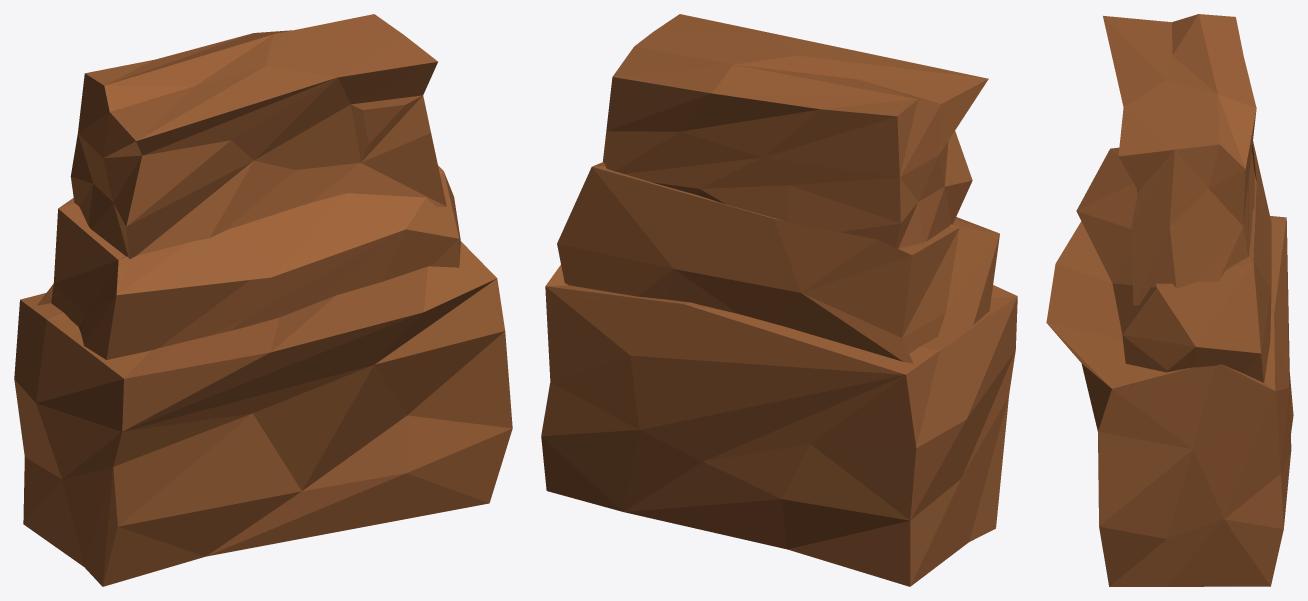
The model's file is cliff.glb.
3 views of the same model, side by side, from view 1: azimuth 30°, elevation 25°; view 2: azimuth 150°, elevation 25°; view 3: azimuth 270°, elevation 25° (orthographic). The views are drawn at different scales.
Visible parts, largest first — view 1: Node; view 2: Node; view 3: Node.
Part boxes in pixels (<box>): Node: <box>14,14,512,586</box>; Node: <box>541,14,1017,586</box>; Node: <box>1046,14,1293,586</box>.
Size of the model in its own units: 1354 by 1469 by 769.
Materials: 1 (1 with a texture image).
